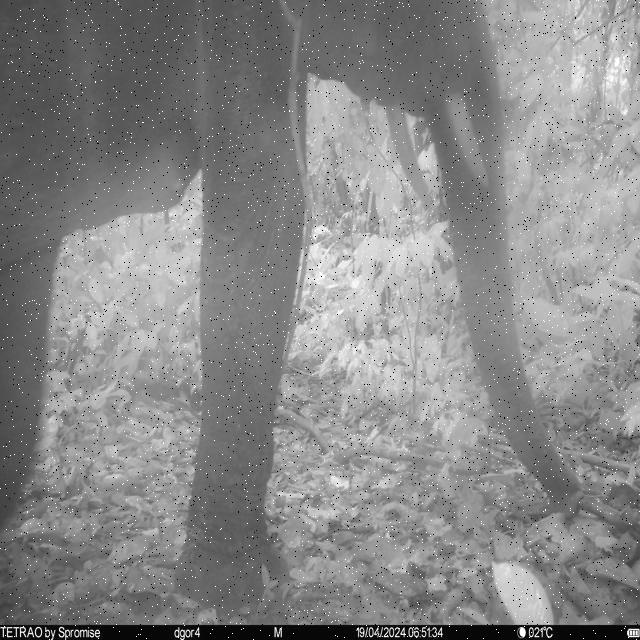elephant: (1, 1, 589, 616)
tusk: (384, 101, 434, 212), (445, 92, 491, 188)
